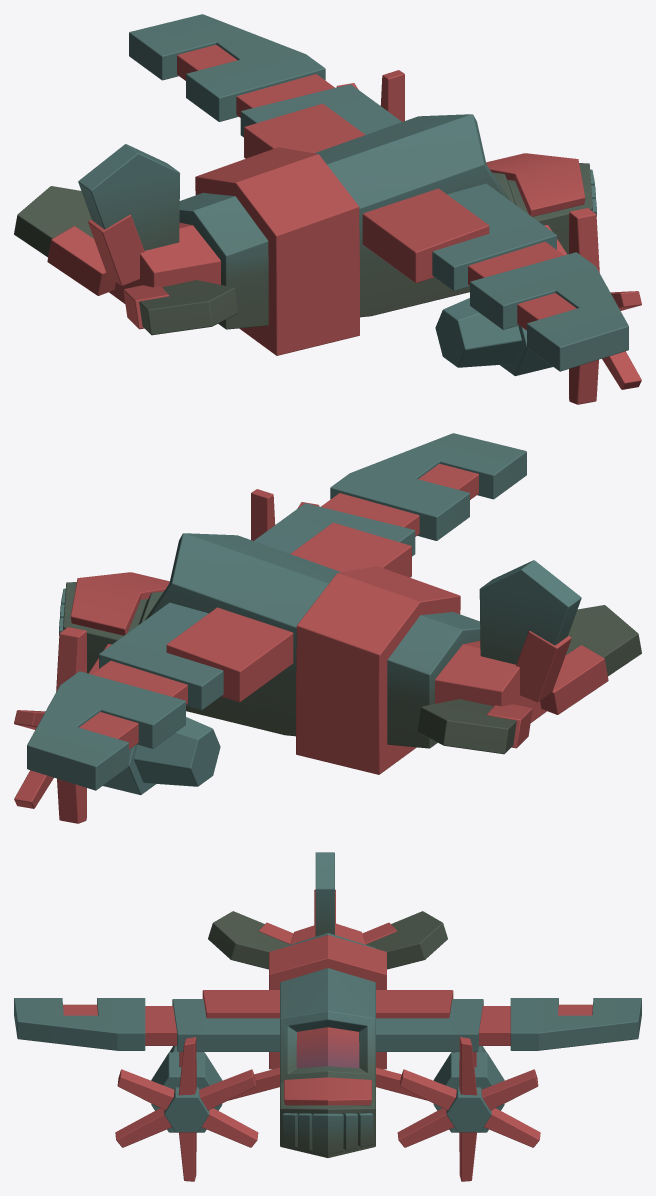
File: enemy_scout.glb
The picture shows the model from 3 angles, top to bottom: view 1: azimuth 30°, elevation 25°; view 2: azimuth 150°, elevation 25°; view 3: azimuth 270°, elevation 25°; orthographic projection. The views are drawn at different scales.
Visible parts, largest first — view 1: Cube.008, Cube.011, Cube.026, Cube.012, Cube.050, Cube.028, Cube.009, Cylinder.008, Cylinder.009, Cube.051, Cube.027, Cube.010 (+1 smaller); view 2: Cube.008, Cube.011, Cube.026, Cube.012, Cube.050, Cube.028, Cube.009, Cylinder.008, Cylinder.009, Cube.027, Cube.051, Cube.010 (+1 smaller); view 3: Cylinder.008, Cube.008, Cube.011, Cube.009, Cube.050, Cube.026, Cube.012, Cube.052, Cylinder.009, Cube.010, Cube.051, Cube.028 (+3 smaller).
Part boxes in pixels (x1,y1,x2,y2): Cube.008: (179,114,592,329); Cube.011: (129,14,628,371); Cube.026: (195,147,359,355); Cube.012: (244,103,489,283); Cube.050: (14,186,238,335); Cube.028: (78,144,179,285); Cube.009: (240,84,556,291); Cylinder.008: (336,70,641,404); Cylinder.009: (435,298,552,376); Cube.051: (486,153,585,216); Cube.027: (109,222,220,303); Cube.010: (236,74,563,285); Cube.008: (63,533,480,748); Cube.011: (27,433,526,790); Cube.026: (296,566,460,774); Cube.012: (166,522,411,702); Cube.050: (417,605,641,754); Cube.028: (479,560,581,702); Cube.009: (99,503,415,710); Cylinder.008: (14,489,319,823); Cylinder.009: (103,717,220,795); Cube.027: (435,641,546,722); Cube.051: (70,572,169,635); Cube.010: (92,493,419,704); Cylinder.008: (115,1037,540,1181); Cube.008: (280,933,375,1157); Cube.011: (14,998,641,1050); Cube.009: (172,999,483,1051); Cube.050: (208,911,447,969); Cube.026: (269,935,386,1069); Cube.012: (202,990,453,1018); Cube.052: (282,1113,373,1154); Cylinder.009: (151,1046,504,1132); Cube.010: (145,1006,510,1045); Cube.051: (284,1077,371,1105); Cube.028: (314,852,335,936).
Bounding box in the file's own units: 15.31 × 7.85 × 22.42.
1 material, 1 textured.
